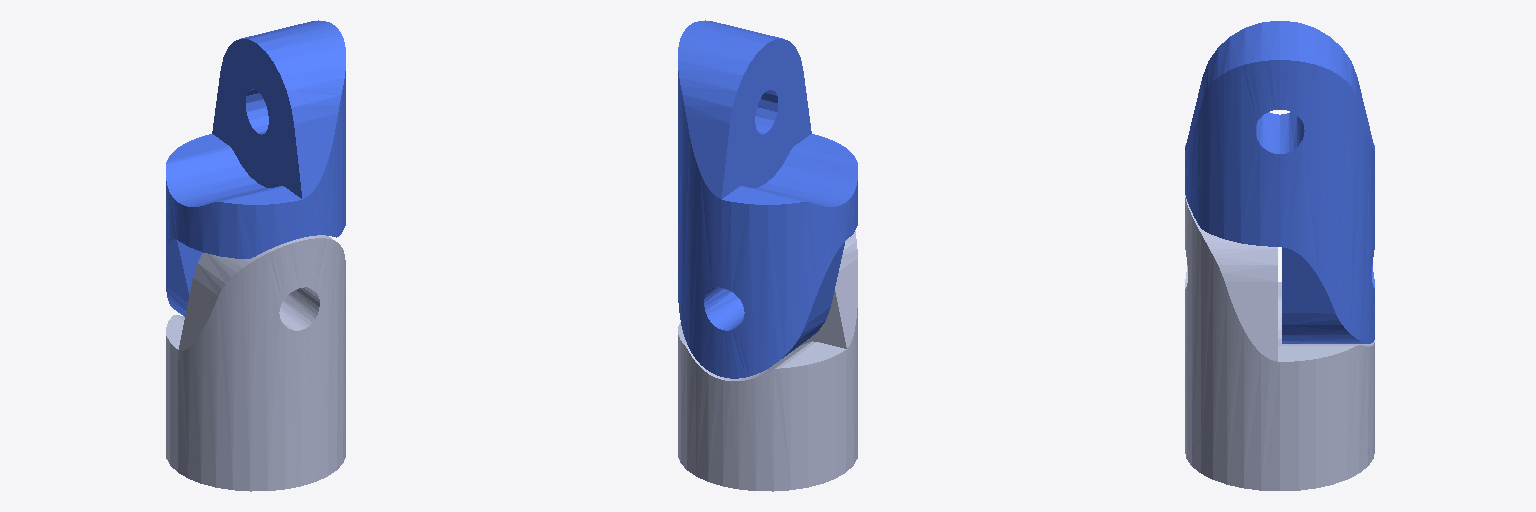
URDF robot description (snake_robot_temp):
<?xml version="1.0" encoding="utf-8"?>
<!-- This URDF was automatically created by SolidWorks to URDF Exporter! Originally created by [author] ([email redacted]) 
     Commit Version: 1.6.0-1-g15f4949  Build Version: 1.6.7594.29634
     For more information, please see http://wiki.ros.org/sw_urdf_exporter -->
<robot
  name="snake_robot_temp">
  <link
    name="head_link">
    <inertial>
      <origin
        xyz="-7.37810372423381E-08 -0.0107815300539941 0.00412052567157211"
        rpy="0 0 0" />
      <mass
        value="0.169319636058232" />
      <inertia
        ixx="0.000126397990407614"
        ixy="2.78872180246068E-10"
        ixz="3.16596245516813E-11"
        iyy="7.32432228818471E-05"
        iyz="-2.05002419136773E-05"
        izz="0.000128044781657033" />
    </inertial>
    <visual>
      <origin
        xyz="0 0 0"
        rpy="0 0 0" />
      <geometry>
        <mesh
          filename="package://snake_robot_temp/meshes/head_link.STL" />
      </geometry>
      <material
        name="">
        <color
          rgba="0.792156862745098 0.819607843137255 0.933333333333333 1" />
      </material>
    </visual>
    <collision>
      <origin
        xyz="0 0 0"
        rpy="0 0 0" />
      <geometry>
        <mesh
          filename="package://snake_robot_temp/meshes/head_link.STL" />
      </geometry>
    </collision>
  </link>
  <link
    name="coupling_1">
    <inertial>
      <origin
        xyz="0.00484148879238799 0.0300000000884499 0.00484155803317407"
        rpy="0 0 0" />
      <mass
        value="0.143657629703553" />
      <inertia
        ixx="0.000132610817812716"
        ixy="2.00281059414306E-05"
        ixz="3.36773246546473E-06"
        iyy="5.72345263715008E-05"
        iyz="-2.00281685250379E-05"
        izz="0.00013260539027947" />
    </inertial>
    <visual>
      <origin
        xyz="0 0 0"
        rpy="0 0 0" />
      <geometry>
        <mesh
          filename="package://snake_robot_temp/meshes/coupling_1.STL" />
      </geometry>
      <material
        name="">
        <color
          rgba="0.372549019607843 0.533333333333333 1 1" />
      </material>
    </visual>
    <collision>
      <origin
        xyz="0 0 0"
        rpy="0 0 0" />
      <geometry>
        <mesh
          filename="package://snake_robot_temp/meshes/coupling_1.STL" />
      </geometry>
    </collision>
  </link>
  <joint
    name="coupling_1_joint"
    type="revolute">
    <origin
      xyz="0 0 0.02"
      rpy="1.5708 0 1.5708" />
    <parent
      link="head_link" />
    <child
      link="coupling_1" />
    <axis
      xyz="1 0 0" />
    <limit
      lower="-1.0472"
      upper="1.0472"
      effort="0"
      velocity="0" />
  </joint>
</robot>

--- Render facts (derived) ---
The picture shows the robot from 3 angles, left to right: view 1: azimuth 30°, elevation 25°; view 2: azimuth 150°, elevation 25°; view 3: azimuth 270°, elevation 25°; orthographic projection.
Robot: snake_robot_temp — 2 links, 1 joints (1 revolute); root link head_link; default pose: all joints at 0.
Links seen in each view (by area): view 1: head_link, coupling_1; view 2: coupling_1, head_link; view 3: coupling_1, head_link.
Link boxes in pixels (<box>): head_link: <box>166,235,345,491</box>; coupling_1: <box>166,20,345,316</box>; coupling_1: <box>678,20,857,378</box>; head_link: <box>678,231,857,491</box>; coupling_1: <box>1185,21,1374,343</box>; head_link: <box>1185,195,1374,490</box>.
Bounding box of the posed robot: 0.06 × 0.06 × 0.15 m (x, y, z).
2 mesh visuals loaded from 2 distinct referenced files (2 binary STL).